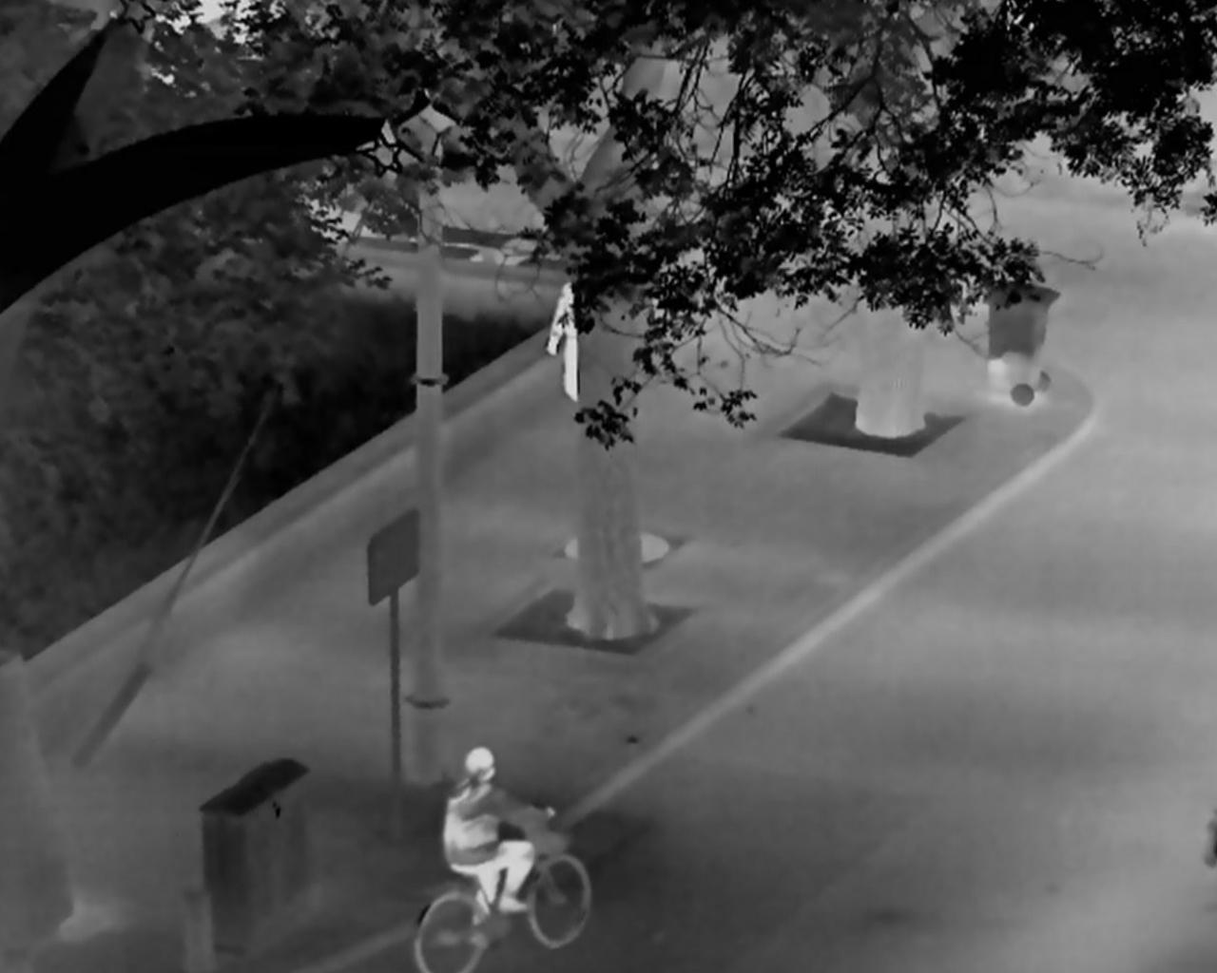person: (442, 747, 555, 928), (547, 280, 580, 403)
